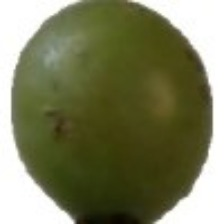grapes: (2, 18, 200, 164)
